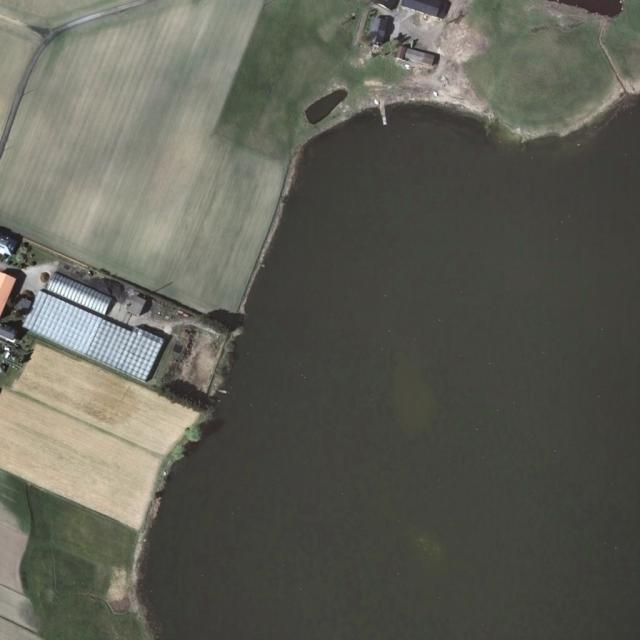building: (0, 226, 243, 457)
dryland: (11, 337, 200, 463)
greenland: (0, 471, 151, 640)
